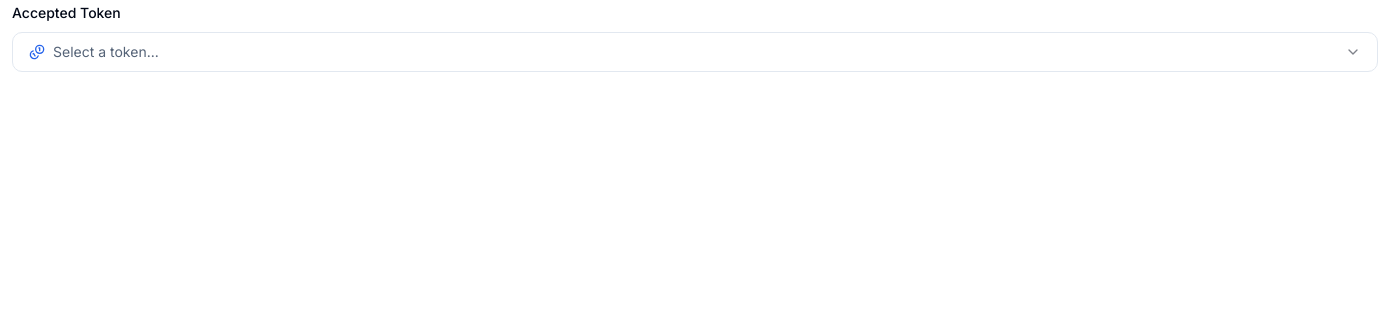
Test: TokenSelector — recent tokens › clear button empties the recents list and storage
The image size is (1390, 334).
Click the button at (106, 52), box x1=12 y1=32 x2=1378 y2=72
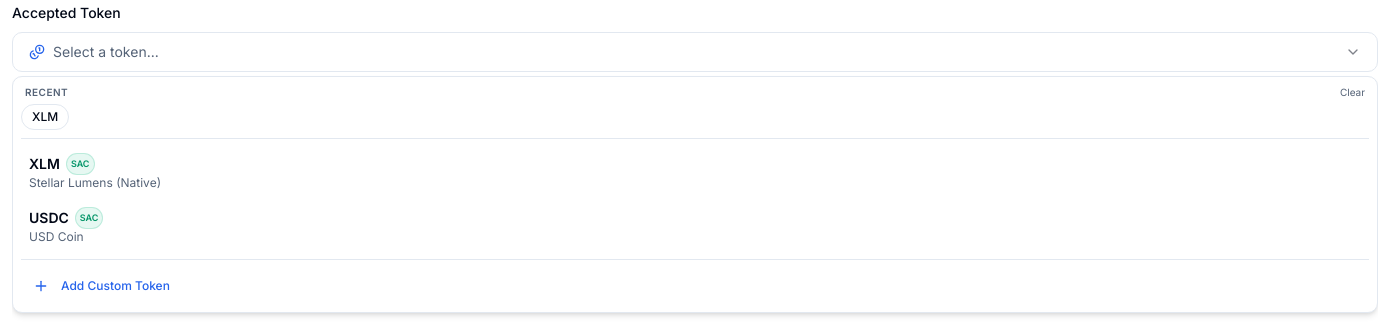
Click the button with aria-label "Clear recent tokens" at (1352, 92), box x1=1340 y1=85 x2=1365 y2=100
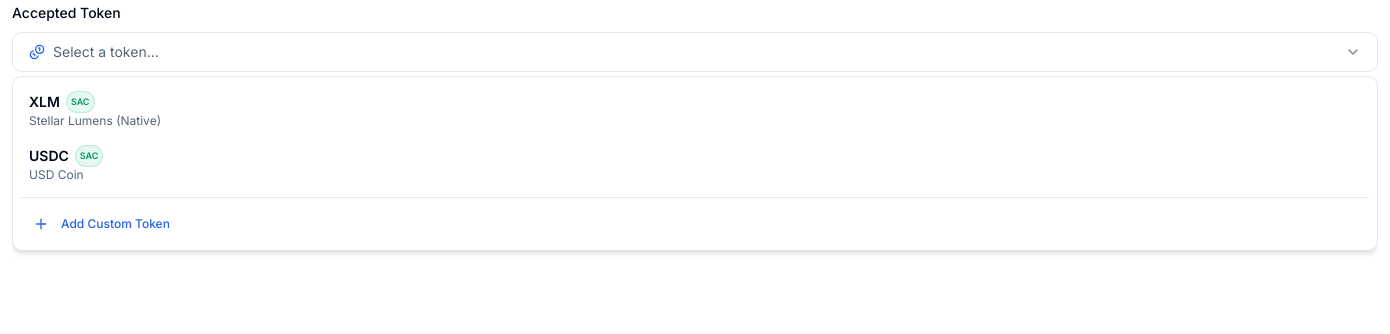
Check: the element with test id "recent-tokens" is gone
